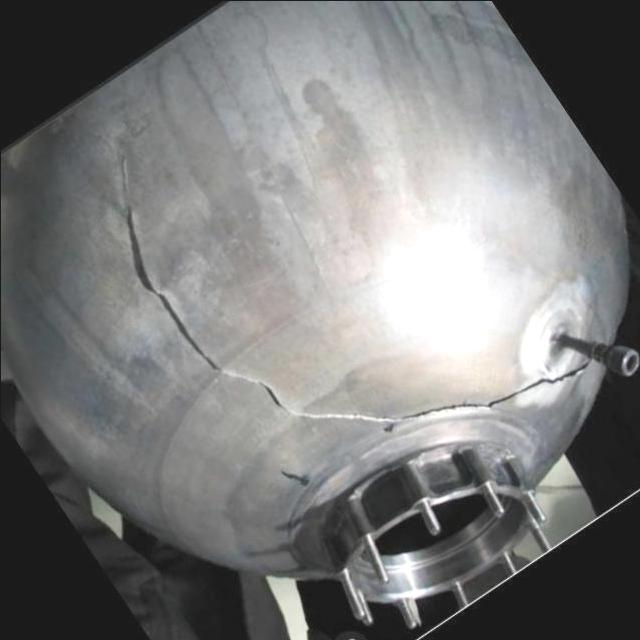defect: (120, 203, 593, 425)
